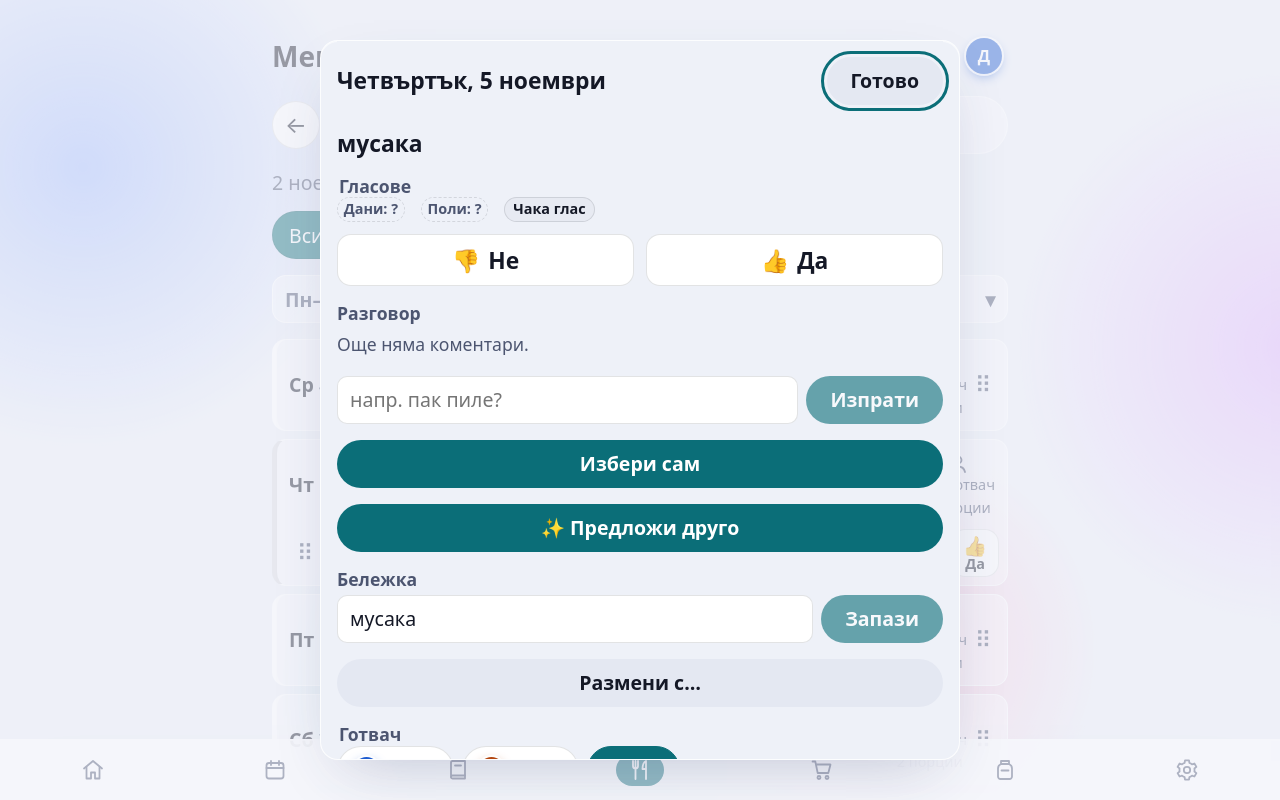
Test: MenuWeek › ?meal= (линкът от известие) отваря листа на ястието и превърта до реда; затварянето маха параметъра
Click the button "Готово": point(885, 81) [826,57,943,105]
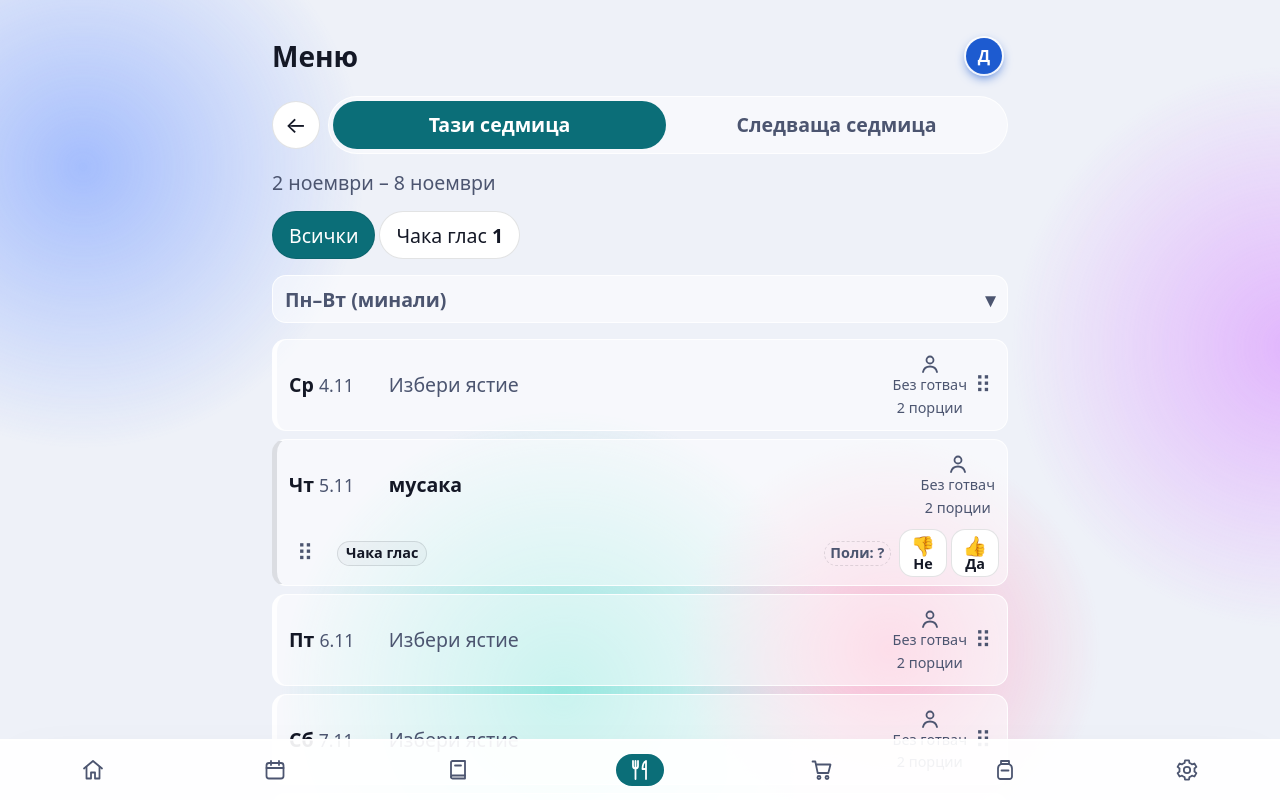
Now the dialog is gone
